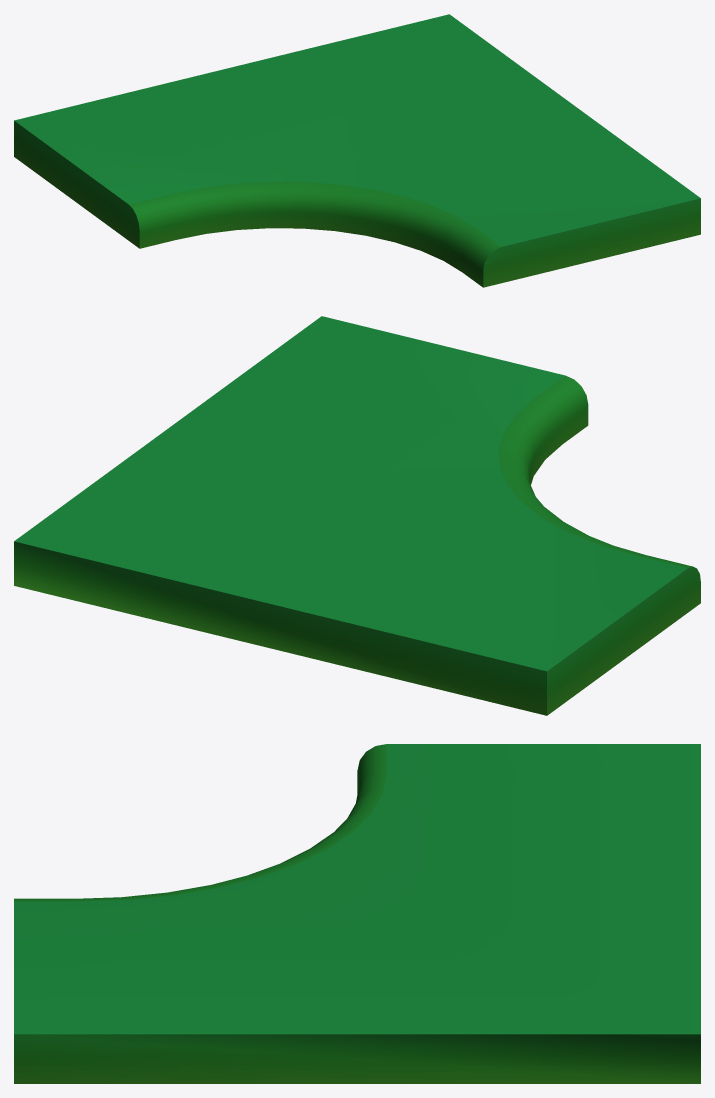
The model's file is GF_ICorner_2_1.obj.
3 renders of one model, top to bottom at view 1: azimuth 30°, elevation 25°; view 2: azimuth 150°, elevation 25°; view 3: azimuth 270°, elevation 25°, orthographic. The views are drawn at different scales.
Parts seen in each view (by area): view 1: GF_ICorner_2_1; view 2: GF_ICorner_2_1; view 3: GF_ICorner_2_1.
Part boxes in pixels (x1=…): GF_ICorner_2_1: x1=14, y1=14, x2=700, y2=287; GF_ICorner_2_1: x1=14, y1=316, x2=700, y2=715; GF_ICorner_2_1: x1=14, y1=744, x2=700, y2=1083.
Bounding box in the file's own units: 4 × 0.3187 × 4.
